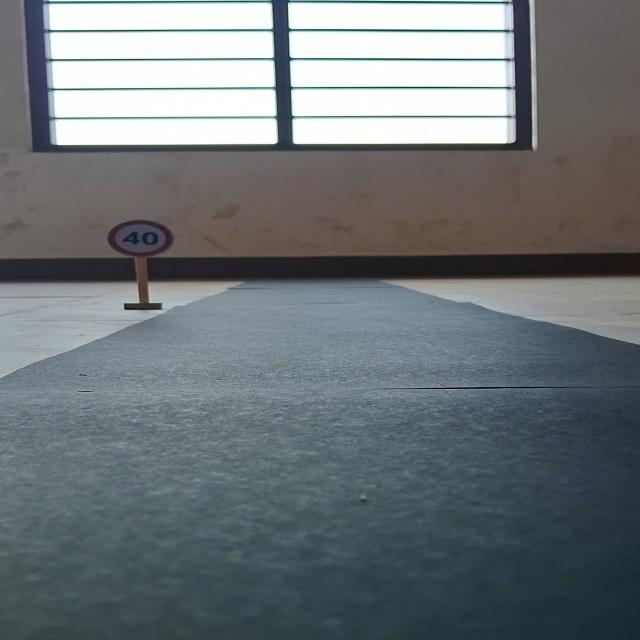Speed40: (94, 213, 180, 259)
